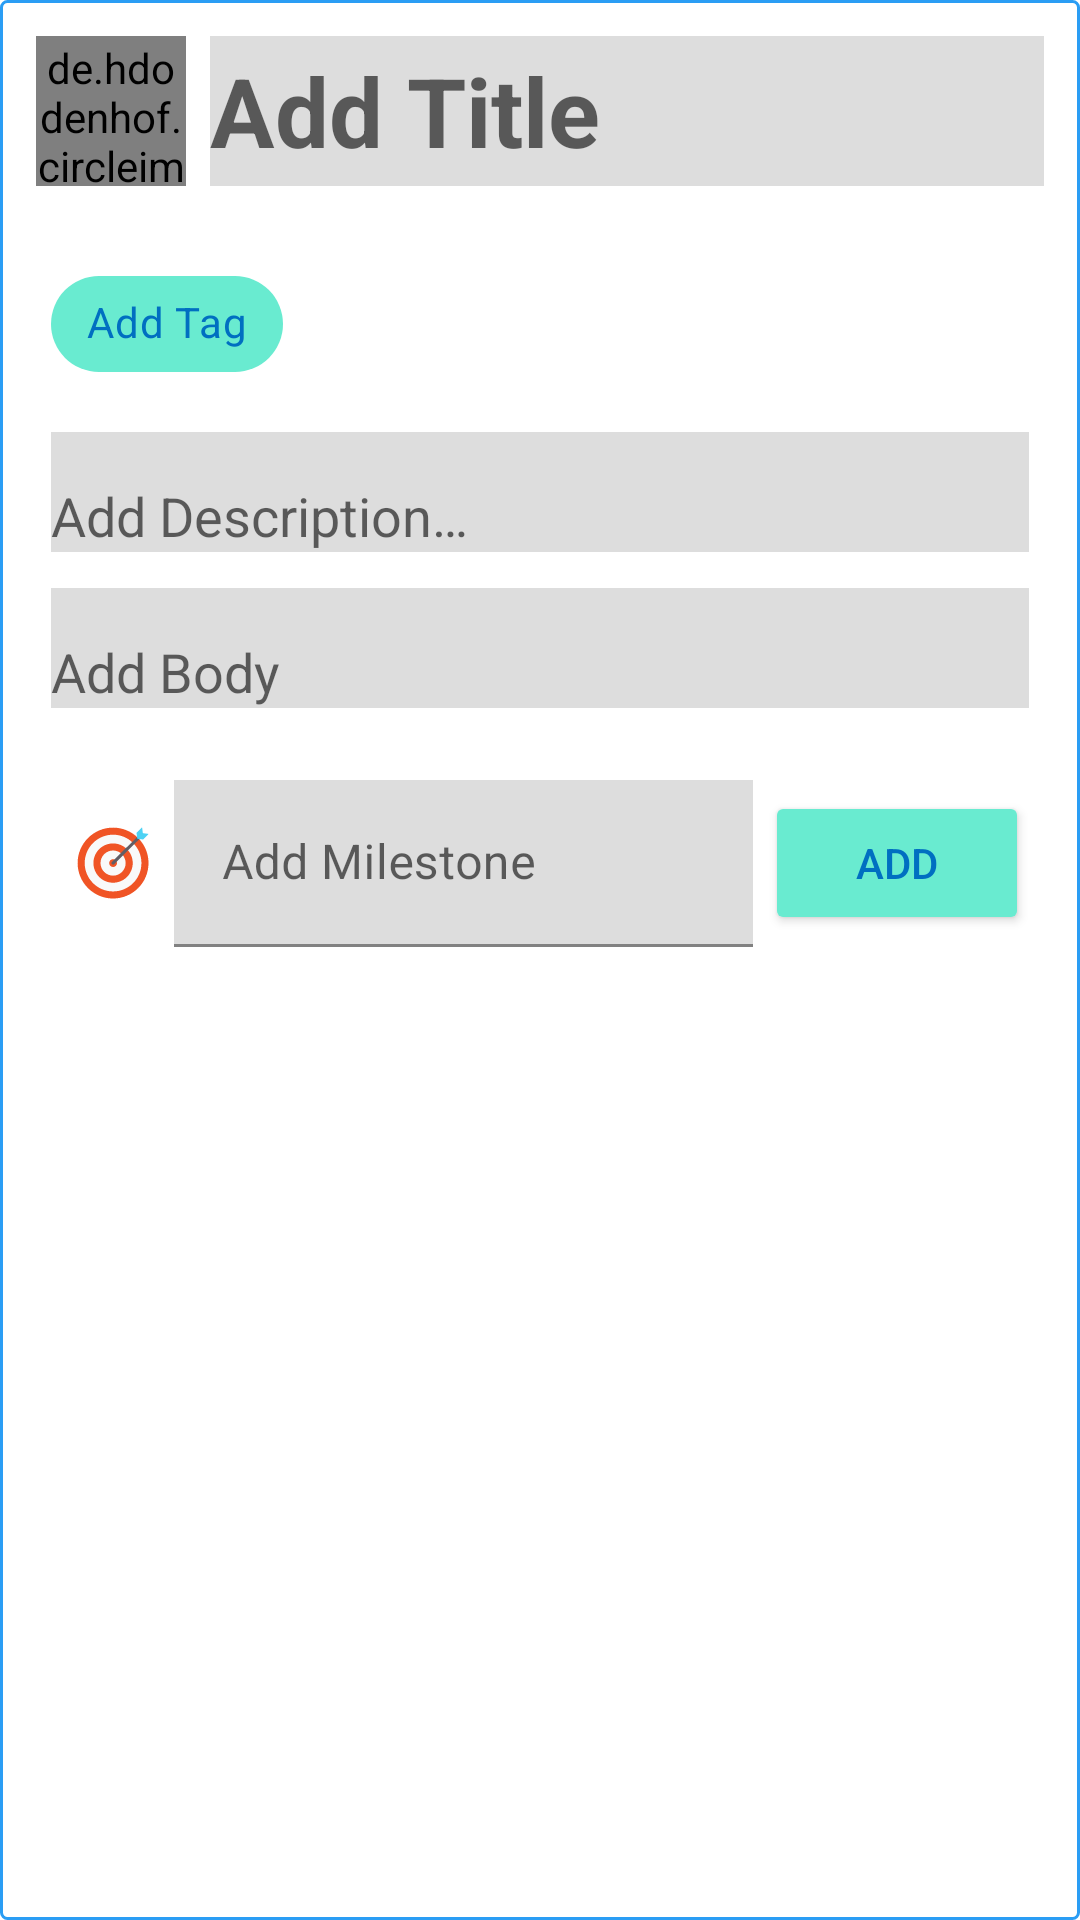

Named icons in this screenshot (1080px x 1920px) and their bounding boxes, Rect(x1, y1, x2, y2):
Milestones Icon: Rect(77, 827, 149, 899)
